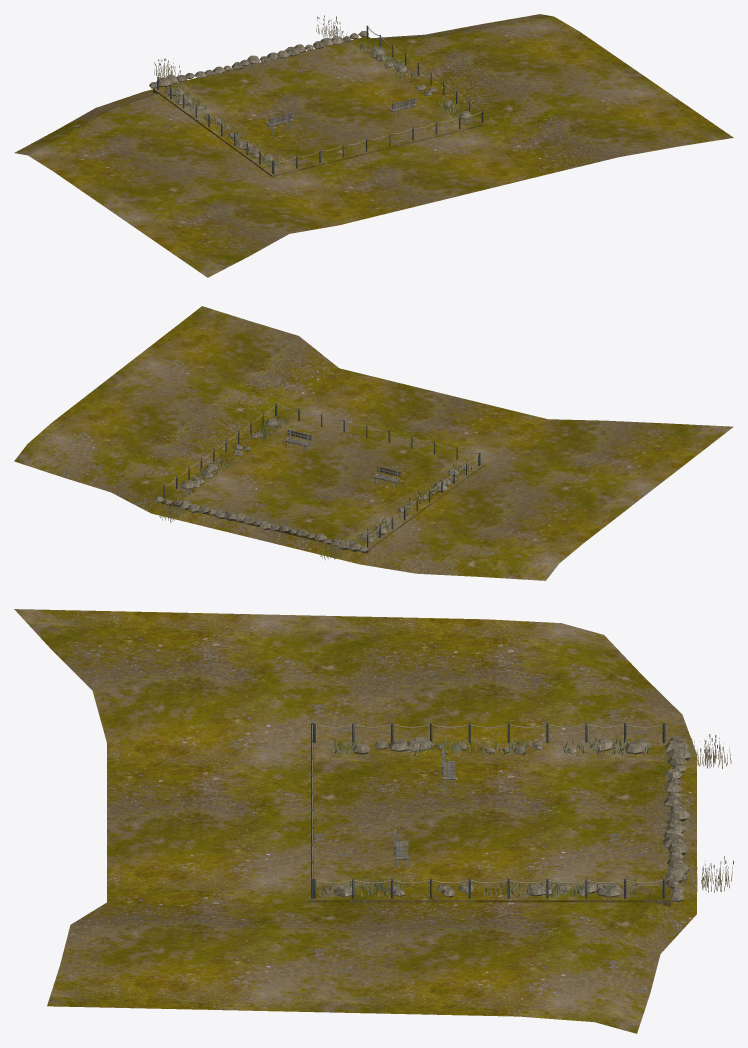
File: lakeside.glb
The picture shows the model from 3 angles, top to bottom: view 1: azimuth 30°, elevation 25°; view 2: azimuth 150°, elevation 25°; view 3: azimuth 270°, elevation 25°; orthographic projection. The views are drawn at different scales.
Parts seen in each view (by area): view 1: lakeside_BakedForeground, lakeside_grass, lakeside_rope; view 2: lakeside_BakedForeground, lakeside_grass, lakeside_rope, lakeside_reed; view 3: lakeside_BakedForeground, lakeside_grass, lakeside_rope, lakeside_reed.
Boxes of the visible parts, x1,y1,x2,y2 form: lakeside_BakedForeground: (14, 14, 733, 277); lakeside_grass: (169, 39, 477, 168); lakeside_rope: (158, 27, 482, 162); lakeside_BakedForeground: (14, 306, 733, 580); lakeside_grass: (171, 415, 471, 540); lakeside_rope: (165, 404, 478, 535); lakeside_reed: (159, 497, 348, 560); lakeside_BakedForeground: (14, 609, 733, 1033); lakeside_grass: (317, 733, 650, 896); lakeside_rope: (311, 724, 662, 883); lakeside_reed: (677, 736, 733, 892).
Size of what is drawn, in the model's own units: 40 by 1.72 by 30.5.
9 materials, 4 textured.
